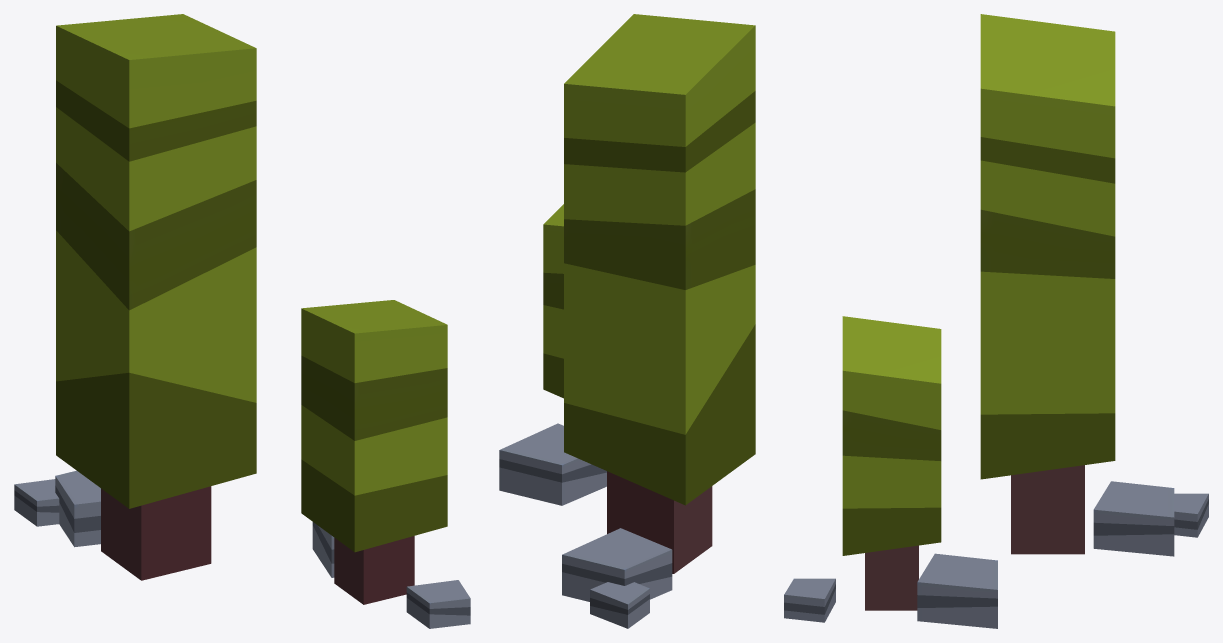
File: tree12.FBX
3 renders of one model, left to right at view 1: azimuth 30°, elevation 25°; view 2: azimuth 150°, elevation 25°; view 3: azimuth 270°, elevation 25°, orthographic. The views are drawn at different scales.
Visible parts, largest first — view 1: tree12; view 2: tree12; view 3: tree12.
Part boxes in pixels (<box>): tree12: <box>14,14,470,628</box>; tree12: <box>499,14,755,628</box>; tree12: <box>784,14,1208,628</box>.
Bounding box in the file's own units: 37.42 × 57.95 × 75.13.
